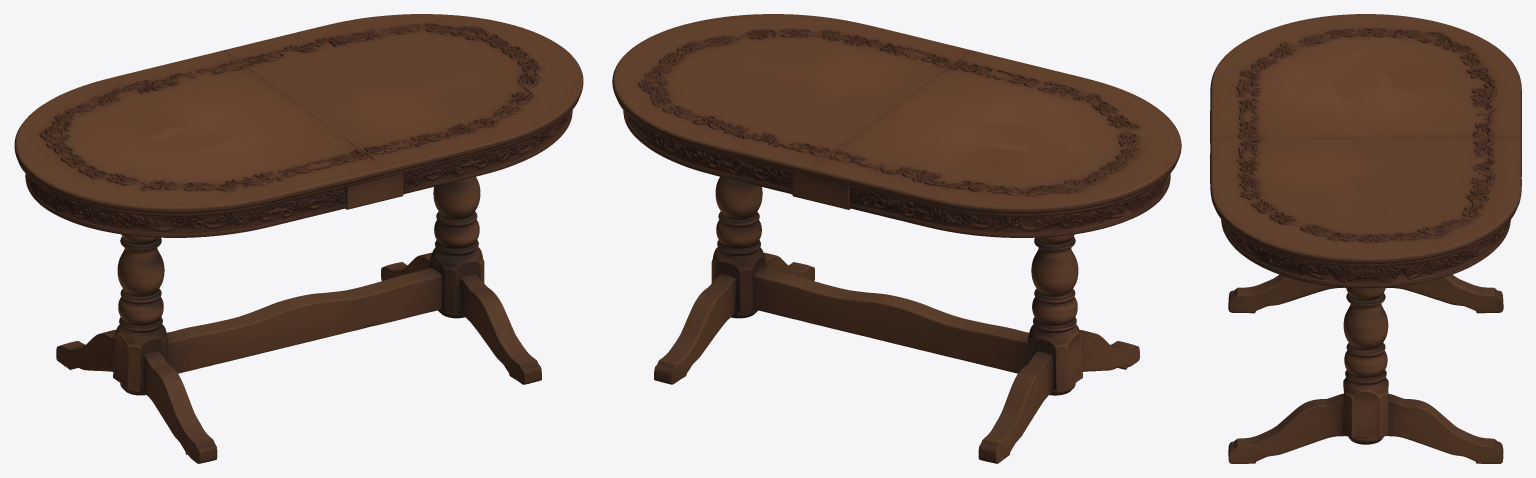
Rendered from Cantora.glb.
The picture shows the model from 3 angles, left to right: view 1: azimuth 30°, elevation 25°; view 2: azimuth 150°, elevation 25°; view 3: azimuth 270°, elevation 25°; orthographic projection. The views are drawn at different scales.
Visible parts, largest first — view 1: tripo_node_cd345a93-e2d4-41f6-b0b6-9ac30183d4ff; view 2: tripo_node_cd345a93-e2d4-41f6-b0b6-9ac30183d4ff; view 3: tripo_node_cd345a93-e2d4-41f6-b0b6-9ac30183d4ff.
Boxes of the visible parts, x1=… form: tripo_node_cd345a93-e2d4-41f6-b0b6-9ac30183d4ff: x1=14, y1=14, x2=583, y2=463; tripo_node_cd345a93-e2d4-41f6-b0b6-9ac30183d4ff: x1=612, y1=14, x2=1181, y2=463; tripo_node_cd345a93-e2d4-41f6-b0b6-9ac30183d4ff: x1=1210, y1=14, x2=1521, y2=463.
Bounding box in the file's own units: 0.9799 × 0.4656 × 0.5252.
Materials: 1 (1 with a texture image).
